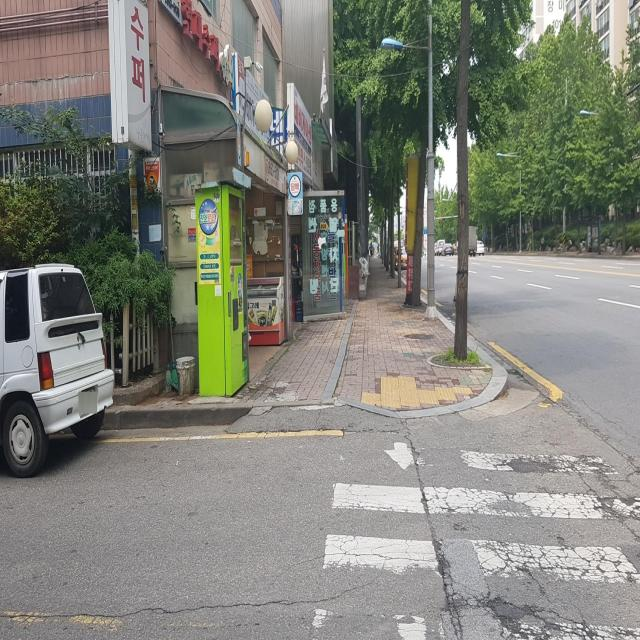횡단보도: (310, 438, 640, 640)
